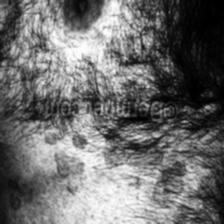Toxin: (44, 129, 85, 193), (100, 130, 150, 169), (153, 166, 187, 206), (6, 176, 22, 212)
